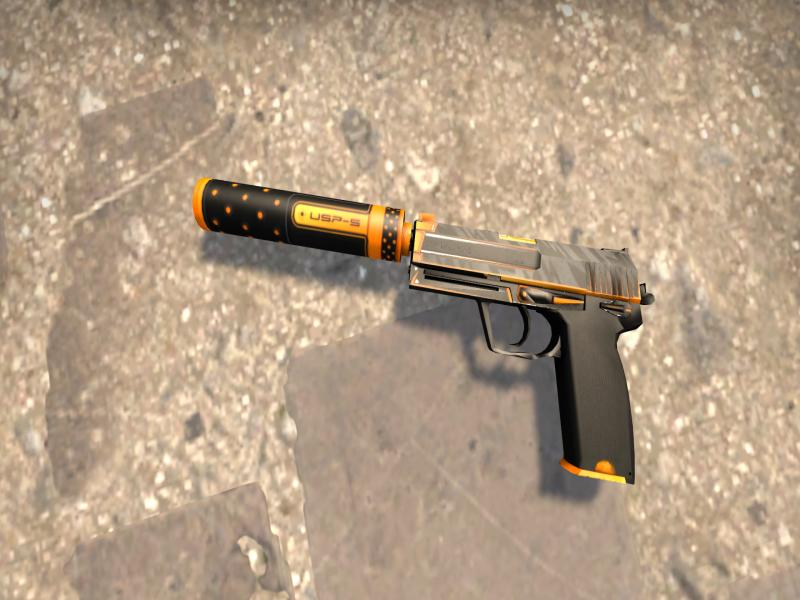USP: (194, 177, 653, 482)
